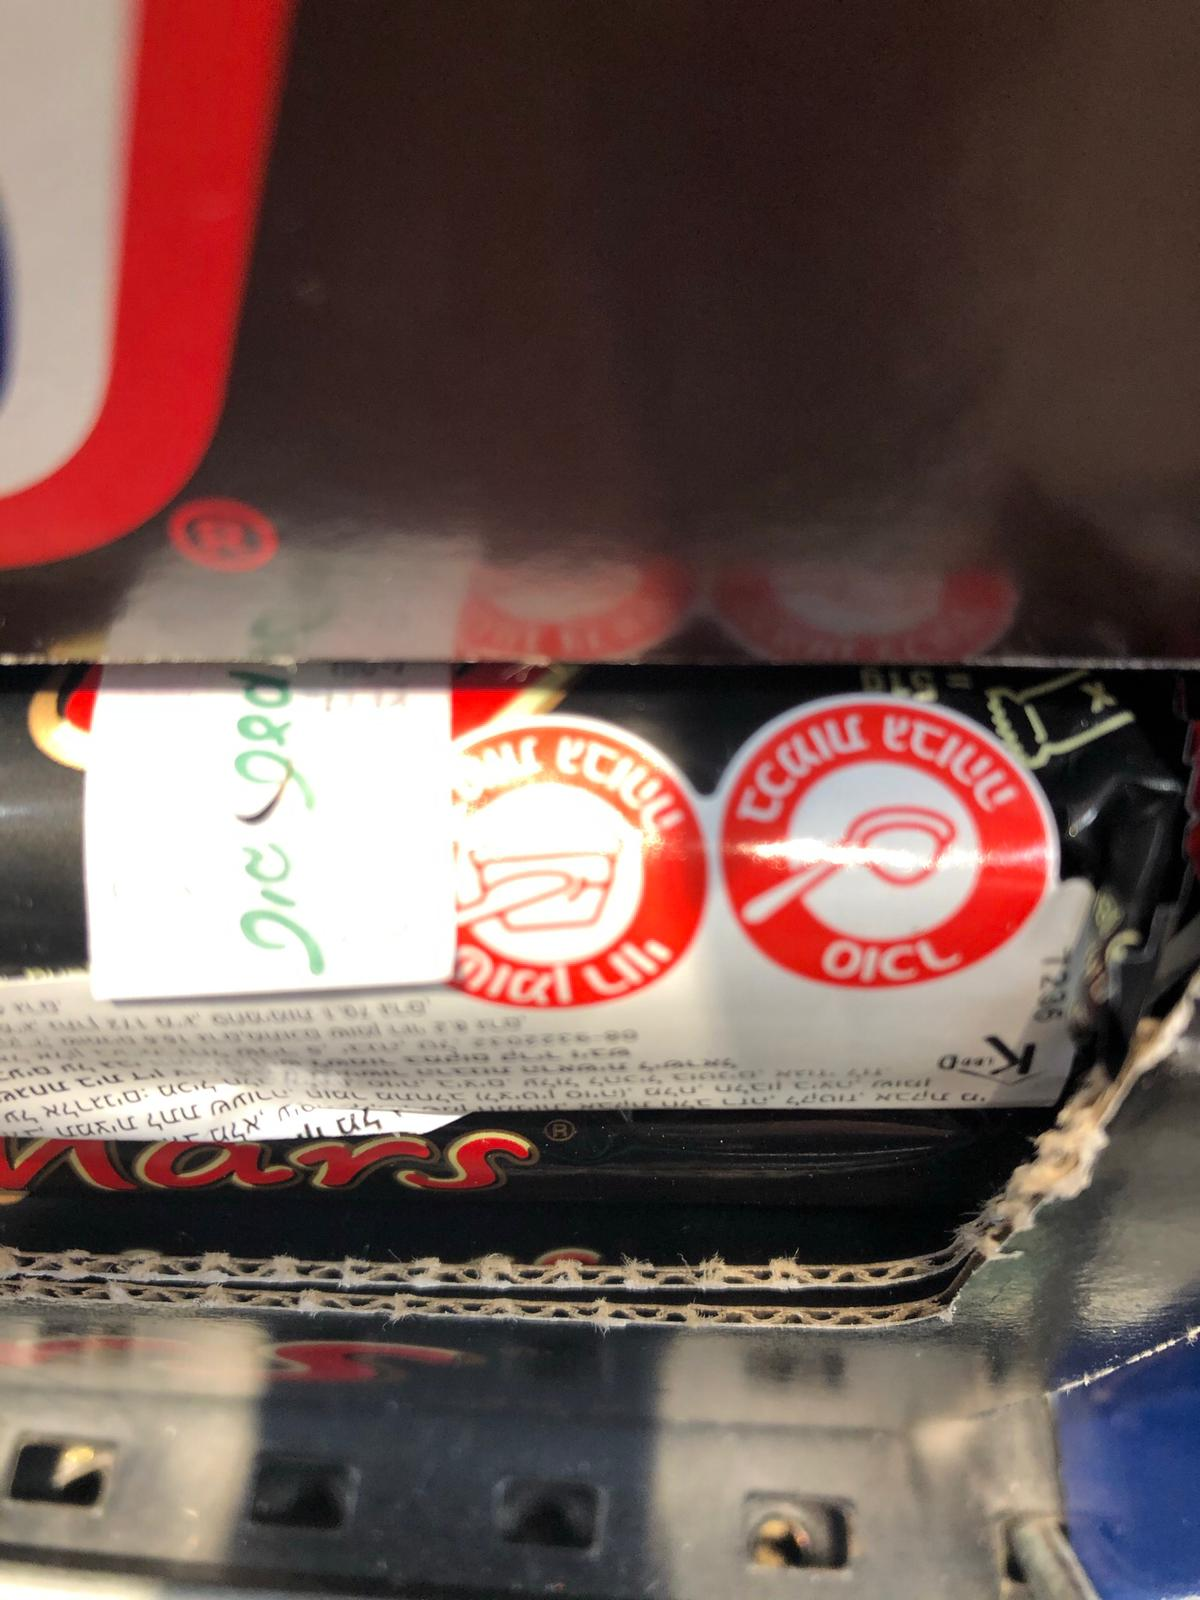fat: (436, 718, 717, 1010)
sugar: (706, 690, 1059, 1002)
